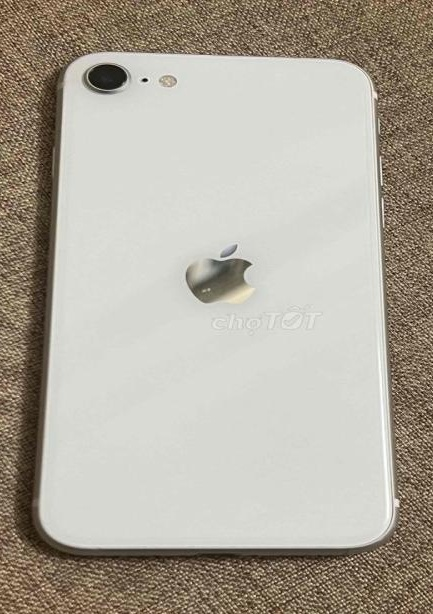scratch: (88, 62, 129, 92)
